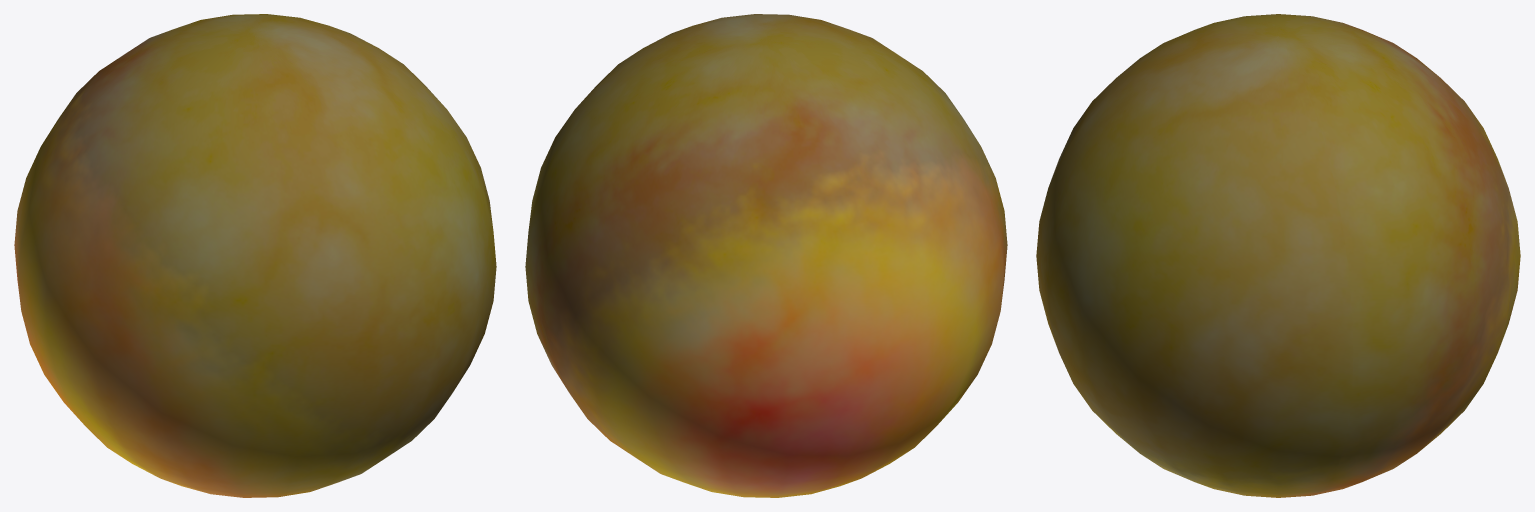
Rendered from cell.obj.
3 renders of one model, left to right at view 1: azimuth 30°, elevation 25°; view 2: azimuth 150°, elevation 25°; view 3: azimuth 270°, elevation 25°, orthographic.
Parts seen in each view (by area): view 1: Environment; view 2: Environment; view 3: Environment.
Boxes of the visible parts, left/top/right/bottom form: Environment: left=14, top=14, right=496, bottom=497; Environment: left=525, top=14, right=1007, bottom=497; Environment: left=1036, top=14, right=1520, bottom=497.
Bounding box in the file's own units: 26.96 × 26.96 × 26.96.
Materials: 5 (5 with a texture image).
